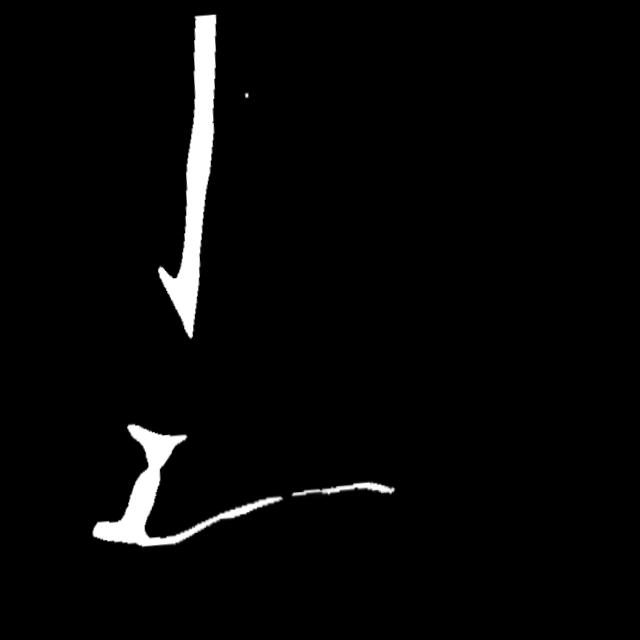sup: (274, 484, 311, 507)
